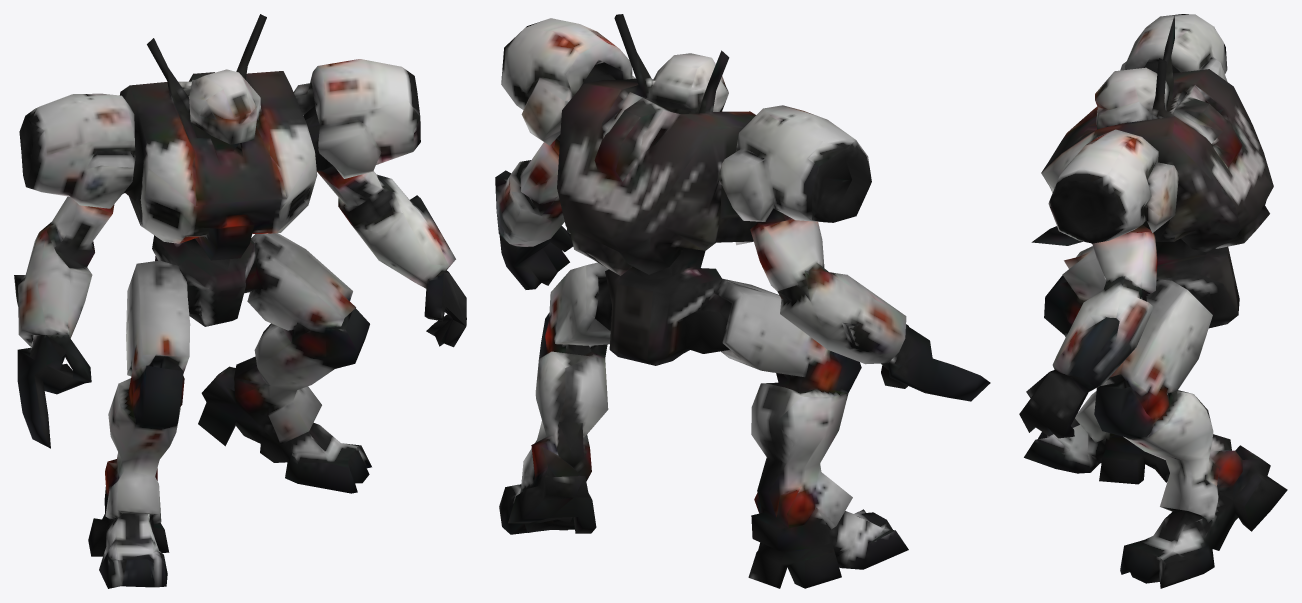
File: detail_3_lo2.glb
The picture shows the model from 3 angles, left to right: view 1: azimuth 30°, elevation 25°; view 2: azimuth 150°, elevation 25°; view 3: azimuth 270°, elevation 25°; orthographic projection. The views are drawn at different scales.
Parts seen in each view (by area): view 1: Mesh_0.001; view 2: Mesh_0.001; view 3: Mesh_0.001.
Part boxes in pixels (x1,y1,x2,y2): Mesh_0.001: (14,14,466,588); Mesh_0.001: (495,14,990,588); Mesh_0.001: (1019,14,1287,588).
Bounding box in the file's own units: 0.9302 × 1 × 0.5047.
Materials: 1 (1 with a texture image).
